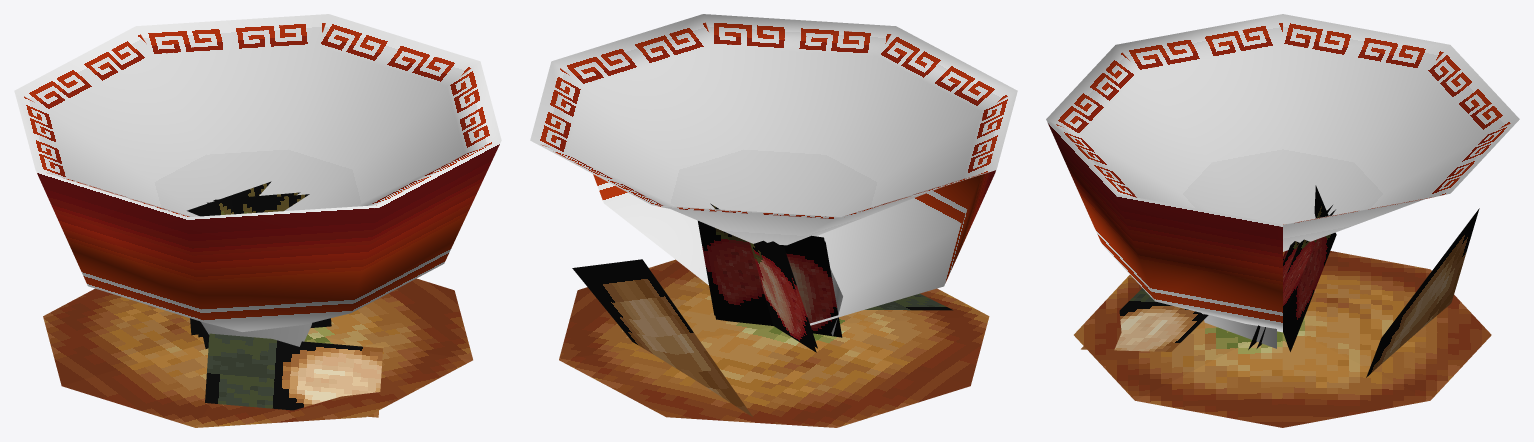
3 views of the same model, side by side, from view 1: azimuth 30°, elevation 25°; view 2: azimuth 150°, elevation 25°; view 3: azimuth 270°, elevation 25° (orthographic). The views are drawn at different scales.
Parts seen in each view (by area): view 1: 5518u_ramn00_hs; view 2: 5518u_ramn00_hs; view 3: 5518u_ramn00_hs.
Boxes of the visible parts, box(x1,y1,x2,y2) form: 5518u_ramn00_hs: box(14, 14, 501, 427); 5518u_ramn00_hs: box(530, 14, 1017, 427); 5518u_ramn00_hs: box(1046, 14, 1519, 427).
Bounding box in the file's own units: 0.7798 × 0.4629 × 0.7417.
Materials: 5 (5 with a texture image).
